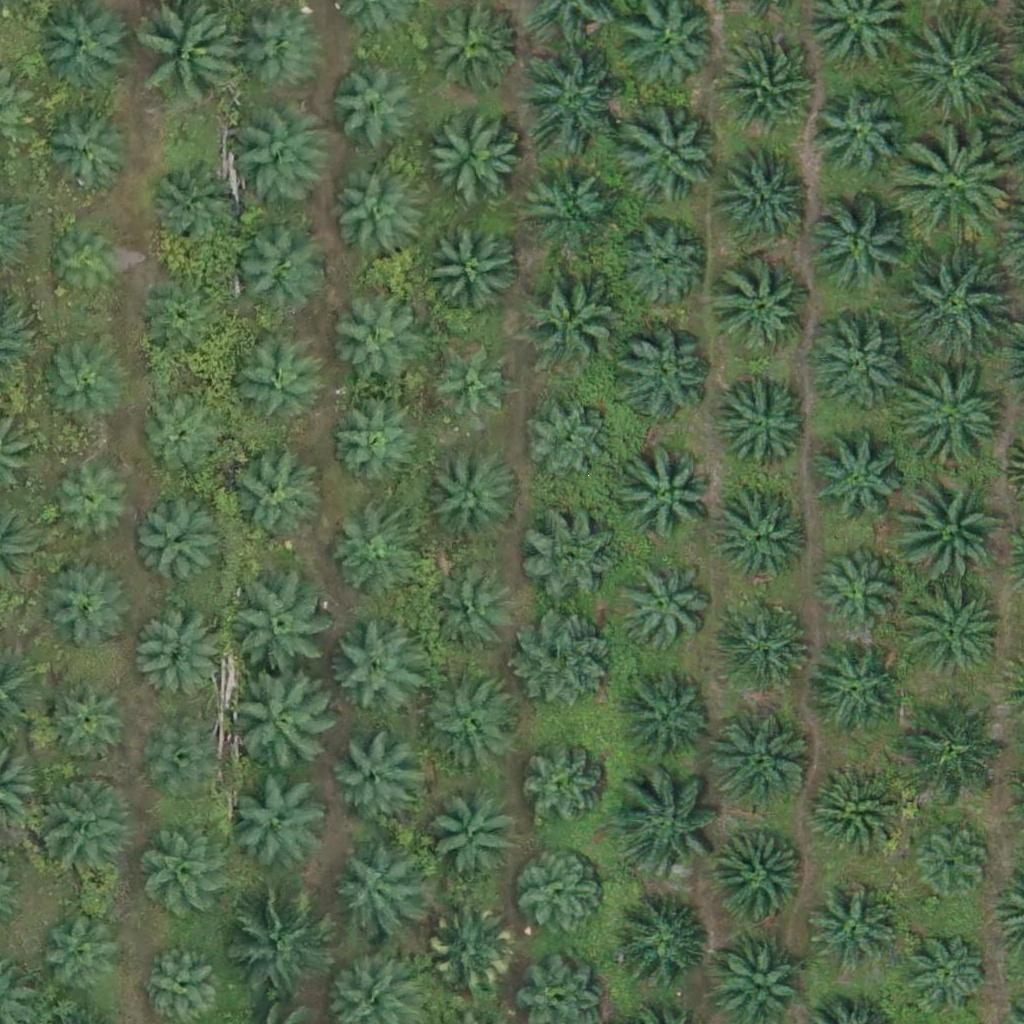Kelapa_Sawit: (224, 668, 337, 782), (894, 16, 1007, 130), (614, 772, 727, 885), (899, 688, 1012, 801), (899, 363, 1012, 476), (898, 247, 1011, 360), (224, 892, 336, 1006), (512, 43, 624, 156), (898, 577, 1010, 690), (893, 467, 1005, 580), (896, 130, 1008, 243), (802, 762, 902, 863), (614, 895, 714, 996), (236, 773, 336, 874), (30, 773, 130, 874), (141, 7, 241, 108), (148, 155, 248, 256), (221, 451, 321, 552), (236, 576, 336, 677), (326, 288, 426, 389), (420, 671, 520, 772), (421, 222, 521, 323), (423, 103, 523, 204), (518, 155, 618, 256), (521, 266, 621, 367), (520, 504, 620, 605), (518, 608, 618, 709), (621, 443, 721, 544), (614, 558, 714, 659), (618, 667, 718, 768), (712, 710, 812, 811), (711, 486, 811, 587), (713, 257, 813, 358), (714, 33, 814, 134), (811, 84, 911, 185), (809, 194, 909, 295), (804, 430, 904, 531), (807, 642, 907, 743), (709, 829, 809, 929), (38, 102, 138, 202), (231, 109, 331, 209), (327, 614, 427, 714), (620, 108, 720, 208), (611, 325, 711, 425), (719, 597, 819, 697), (714, 373, 814, 473), (721, 144, 821, 244), (808, 312, 908, 412), (910, 819, 998, 907), (899, 926, 987, 1014), (812, 887, 900, 975), (329, 733, 417, 821), (330, 849, 418, 937), (145, 833, 233, 921), (39, 906, 127, 994), (143, 279, 231, 367), (233, 6, 321, 94), (234, 227, 322, 315), (230, 339, 318, 427), (331, 64, 419, 152), (331, 171, 419, 259), (328, 404, 416, 492), (430, 448, 518, 536), (525, 398, 613, 486), (424, 341, 511, 430), (520, 747, 607, 835), (517, 856, 604, 944), (427, 908, 514, 996), (426, 793, 513, 881), (45, 678, 132, 766), (45, 560, 132, 648), (52, 456, 139, 544), (40, 333, 127, 421), (139, 396, 226, 484), (138, 505, 225, 593), (135, 613, 222, 701), (327, 511, 414, 599), (425, 569, 512, 657), (620, 219, 707, 307), (814, 544, 901, 632), (50, 227, 125, 303), (149, 723, 224, 799)
